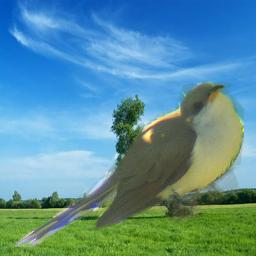Cuckoo: (12, 82, 244, 247)
